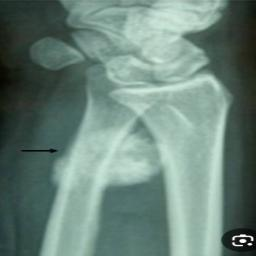cancer: (68, 122, 159, 186)
